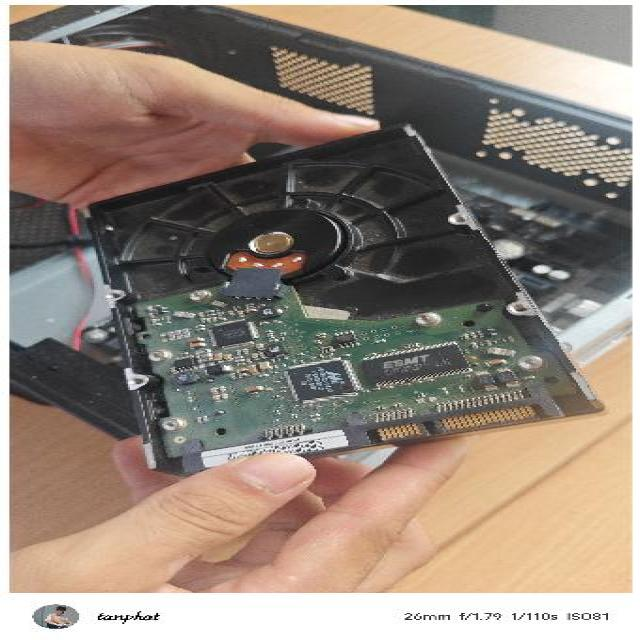DISK: (82, 117, 611, 475)
